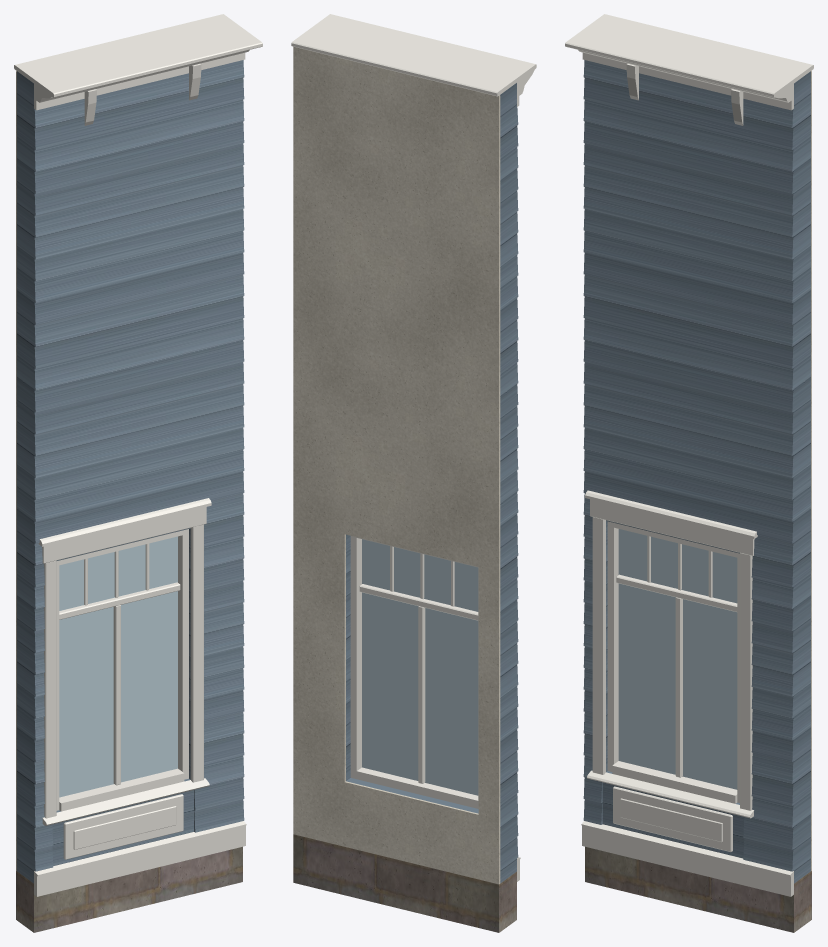
Rendered from front_display_r.glb.
The picture shows the model from 3 angles, left to right: view 1: azimuth 30°, elevation 25°; view 2: azimuth 150°, elevation 25°; view 3: azimuth 330°, elevation 25°; orthographic projection.
Visible parts, largest first — view 1: front_display_r_siding, front_display_r_trim, front_display_r_glass, front_display_r_stone, front_display_r_frame, front_display_r_plaster; view 2: front_display_r_plaster, front_display_r_glass, front_display_r_siding, front_display_r_stone, front_display_r_trim, front_display_r_frame; view 3: front_display_r_siding, front_display_r_trim, front_display_r_glass, front_display_r_stone, front_display_r_frame, front_display_r_plaster.
Part boxes in pixels (x1,y1,x2,y2): front_display_r_siding: (17,60,244,883); front_display_r_trim: (14,14,262,896); front_display_r_glass: (59,536,177,797); front_display_r_stone: (16,846,242,932); front_display_r_frame: (56,529,188,810); front_display_r_plaster: (16,70,16,870); front_display_r_plaster: (293,46,500,884); front_display_r_glass: (362,539,478,795); front_display_r_siding: (346,83,518,883); front_display_r_stone: (293,834,516,932); front_display_r_trim: (291,14,536,881); front_display_r_frame: (350,536,478,808); front_display_r_siding: (583,60,810,883); front_display_r_trim: (565,14,813,896); front_display_r_glass: (618,529,737,789); front_display_r_stone: (585,846,811,932); front_display_r_frame: (607,521,739,802); front_display_r_plaster: (811,70,811,870).
Size of the model in its own units: 2 by 7.81 by 0.66.
Materials: 6 (3 with a texture image).
